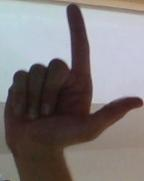L: (6, 1, 144, 181)
